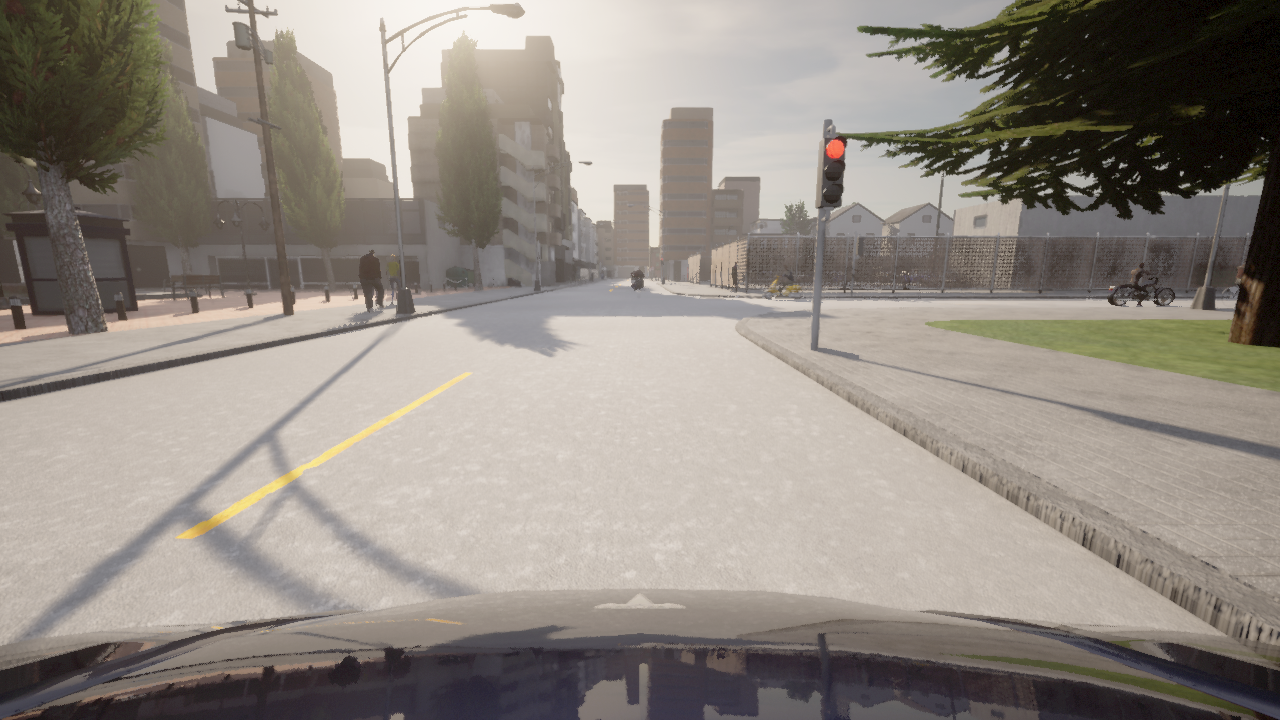cyclist: (0, 588, 1279, 719), (1106, 275, 1175, 306), (764, 272, 803, 300), (870, 267, 898, 283), (912, 269, 940, 283), (1222, 284, 1239, 306), (750, 266, 772, 280), (823, 270, 847, 282), (781, 271, 813, 280), (899, 271, 917, 282), (632, 274, 641, 290), (797, 273, 810, 283), (640, 275, 643, 286), (935, 271, 940, 273)
pedestrian: (360, 249, 385, 312), (385, 254, 401, 304), (731, 261, 738, 292)
